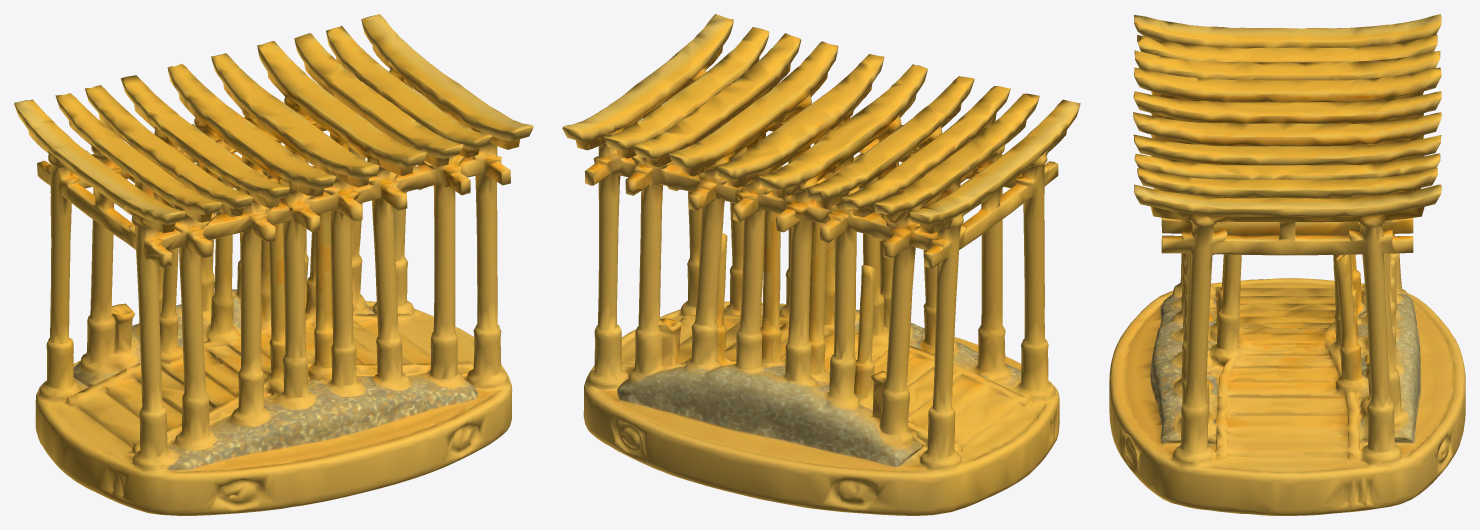
Rendered from fushimi_inari_gold.glb.
The picture shows the model from 3 angles, left to right: view 1: azimuth 30°, elevation 25°; view 2: azimuth 150°, elevation 25°; view 3: azimuth 270°, elevation 25°; orthographic projection.
Parts seen in each view (by area): view 1: Mesh_0; view 2: Mesh_0; view 3: Mesh_0.
Part boxes in pixels (x1=…): Mesh_0: x1=14, y1=14, x2=533, y2=515; Mesh_0: x1=562, y1=14, x2=1080, y2=515; Mesh_0: x1=1109, y1=14, x2=1465, y2=515.
Bounding box in the file's own units: 1.91 × 1.41 × 1.44.
Materials: 1 (1 with a texture image).
